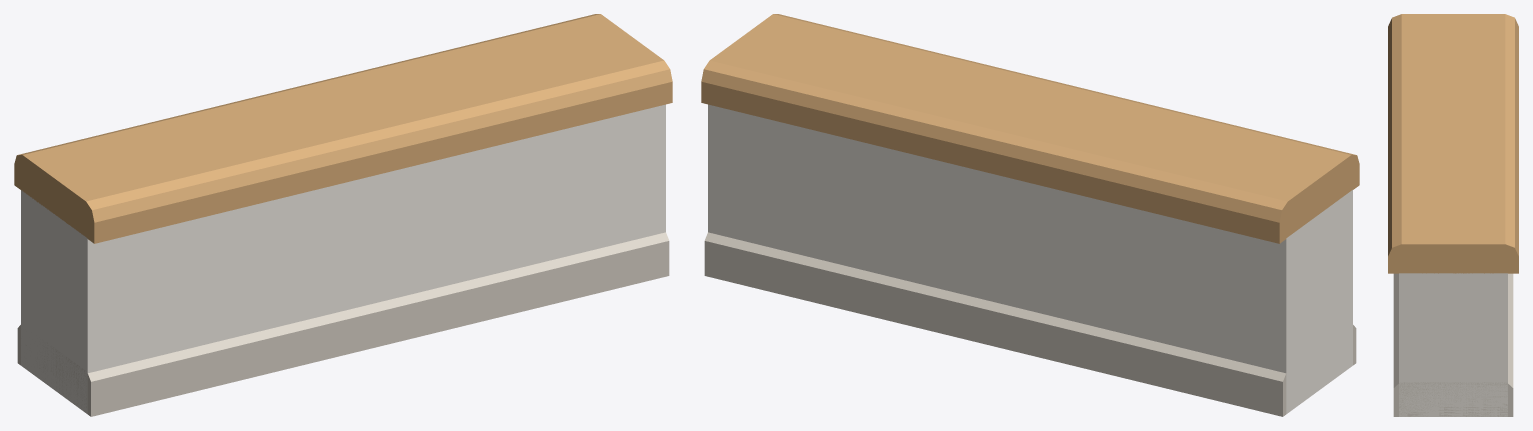
Rendered from wand_sockel.glb.
The picture shows the model from 3 angles, left to right: view 1: azimuth 30°, elevation 25°; view 2: azimuth 150°, elevation 25°; view 3: azimuth 270°, elevation 25°; orthographic projection. The views are drawn at different scales.
Parts seen in each view (by area): view 1: wand_sockel; view 2: wand_sockel; view 3: wand_sockel.
Part boxes in pixels (x1,y1,x2,y2): wand_sockel: [14, 14, 672, 416]; wand_sockel: [701, 14, 1359, 416]; wand_sockel: [1388, 14, 1518, 416].
Bounding box in the file's own units: 1 × 0.35 × 0.24.
